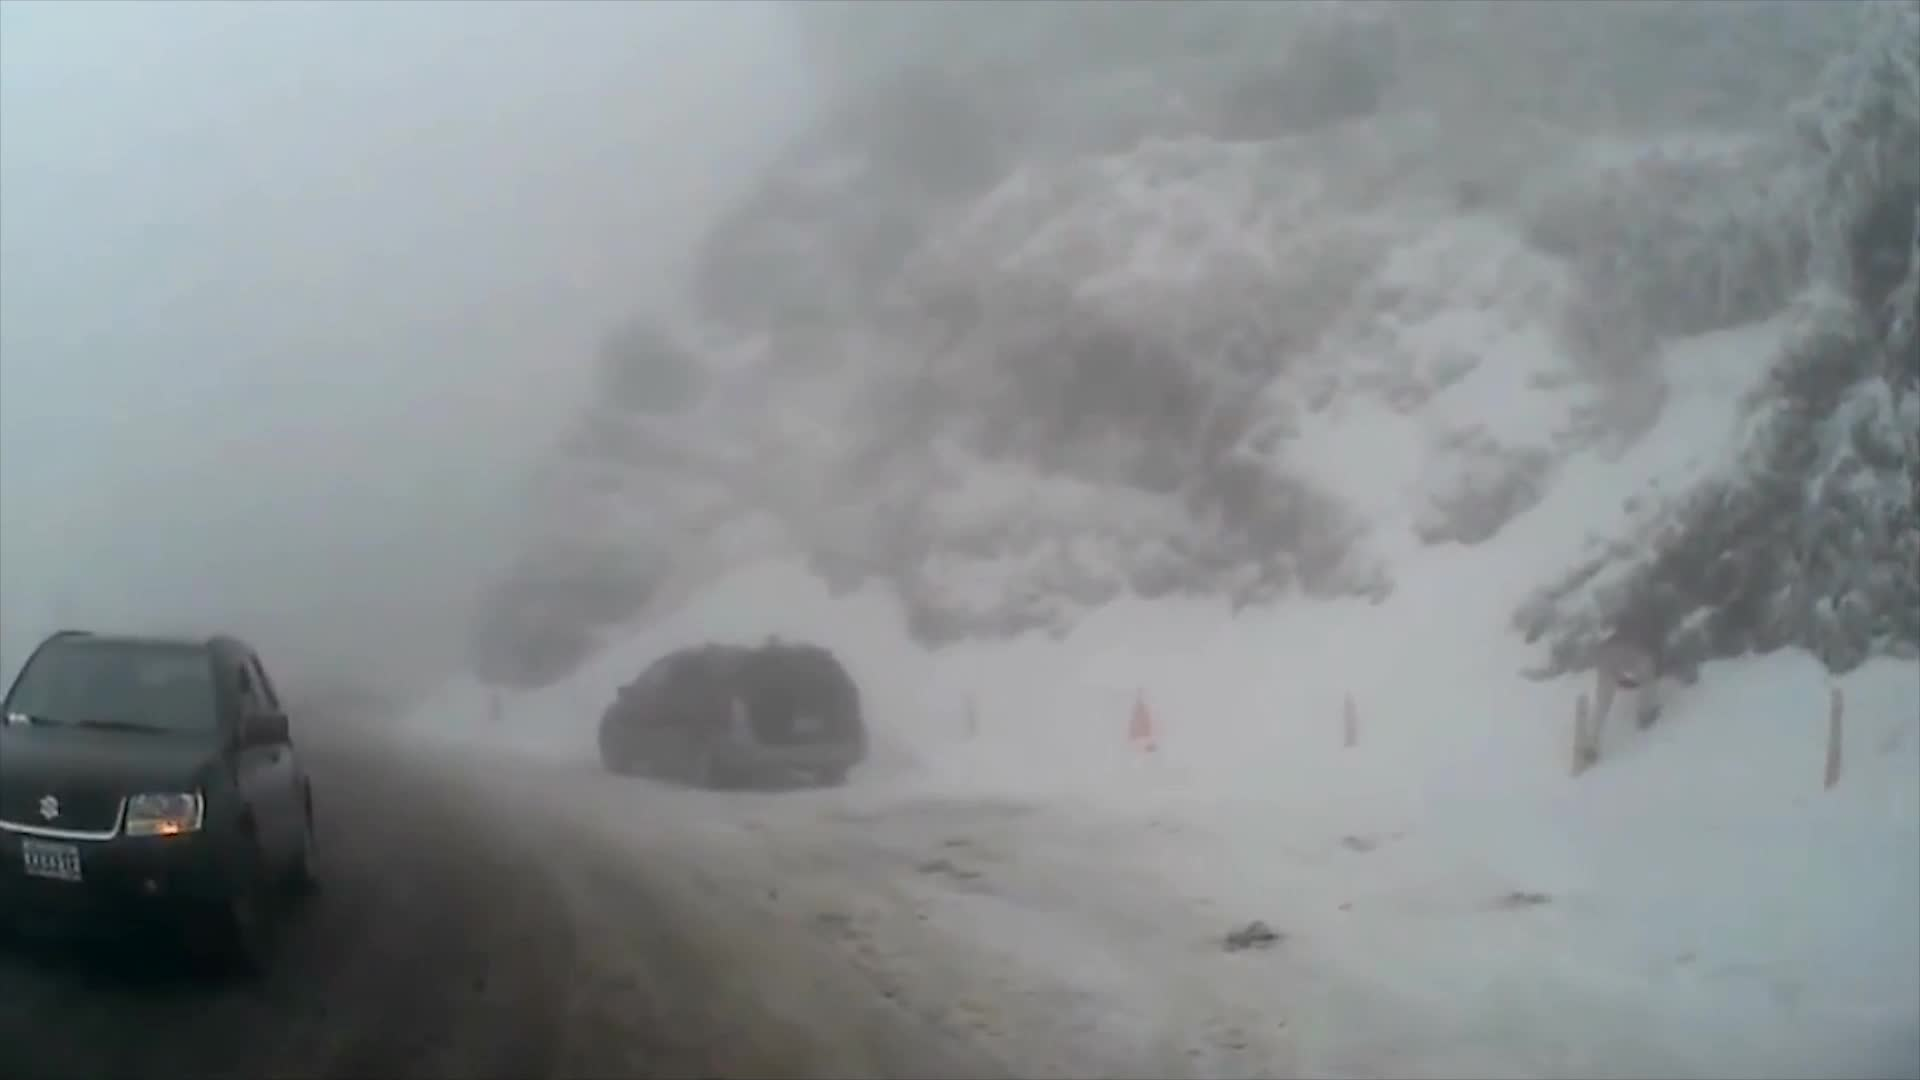vehicle: (0, 626, 320, 988), (597, 642, 865, 789)
